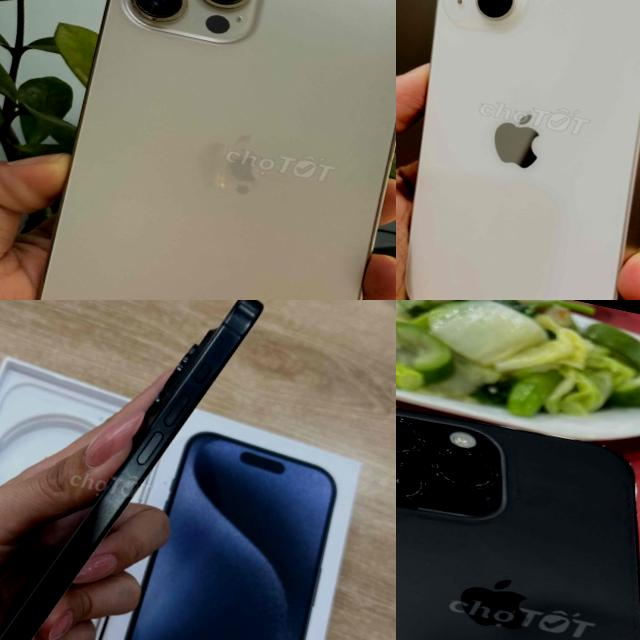scratch: (96, 466, 144, 518)
